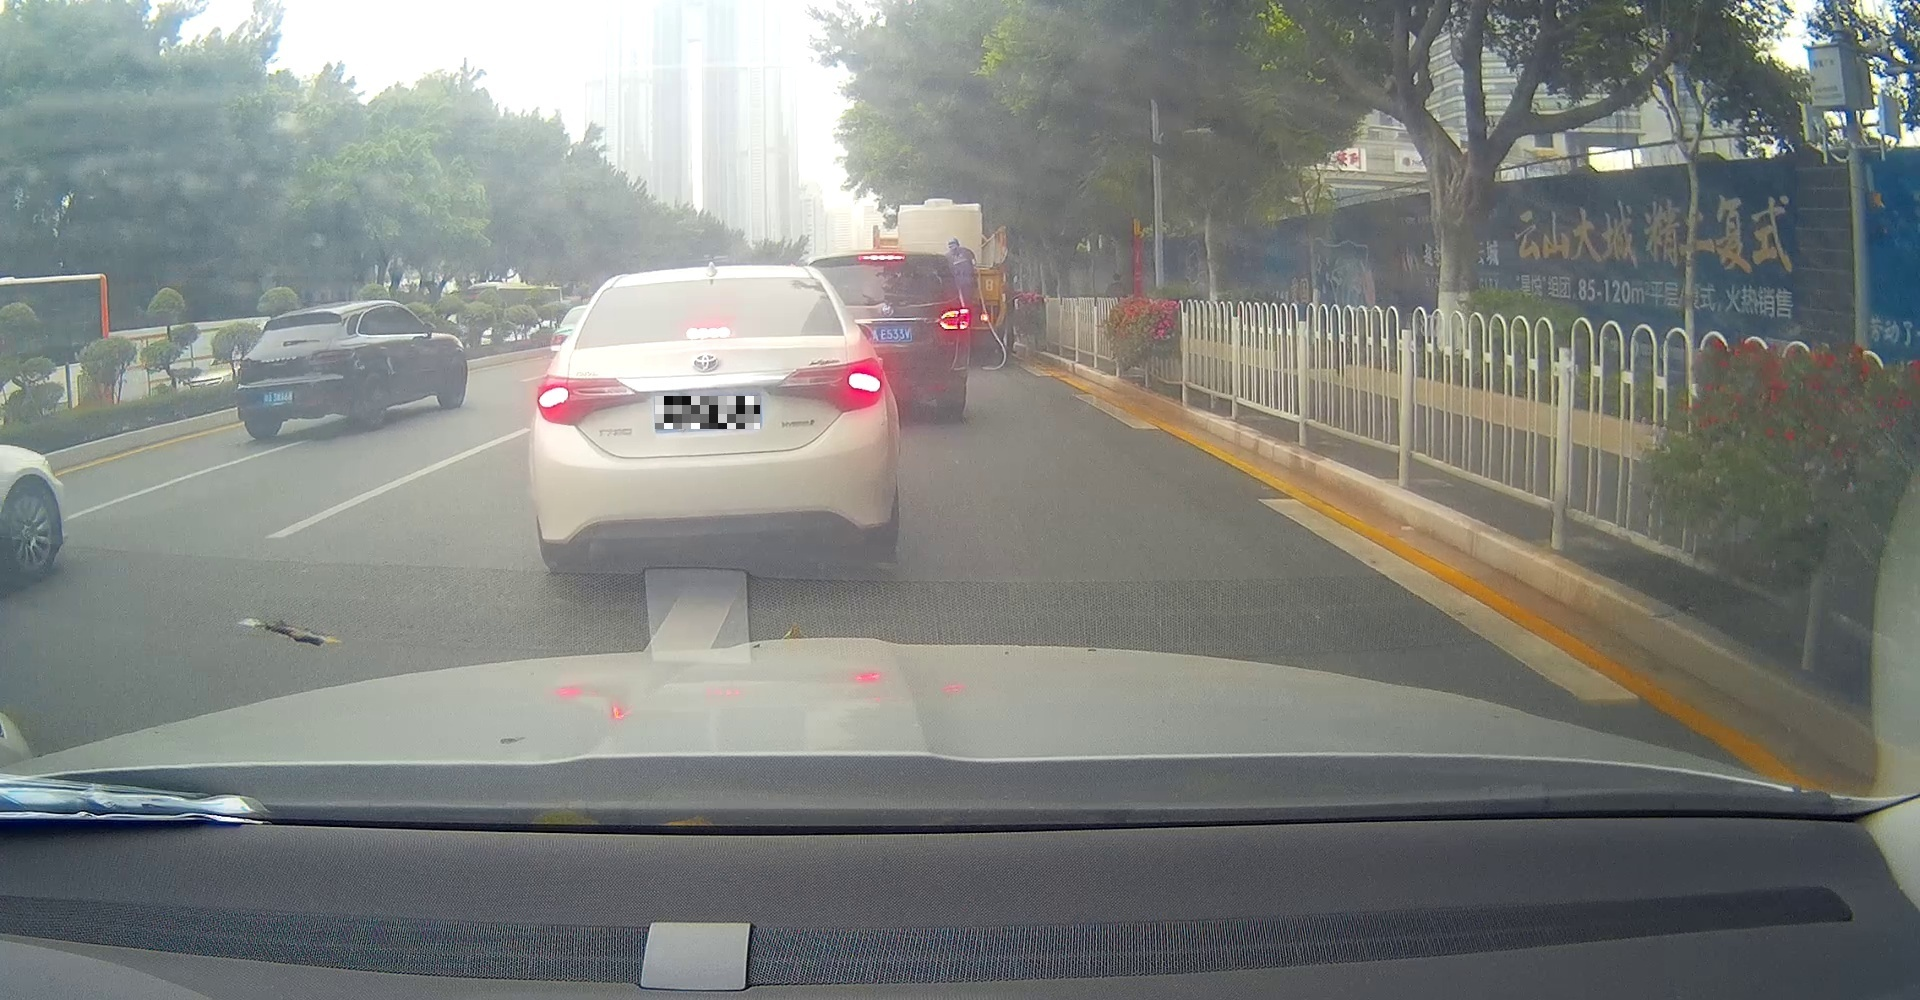L_light: (533, 369, 648, 426), (237, 352, 258, 374)
R_light: (766, 357, 885, 414), (311, 345, 356, 365)
T_light: (684, 325, 730, 340), (290, 317, 316, 324)
day-brake: (532, 272, 898, 569)
day-no: (235, 305, 375, 442)
plate_1: (655, 396, 759, 429)
